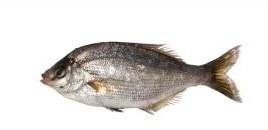fish: (40, 42, 242, 115)
